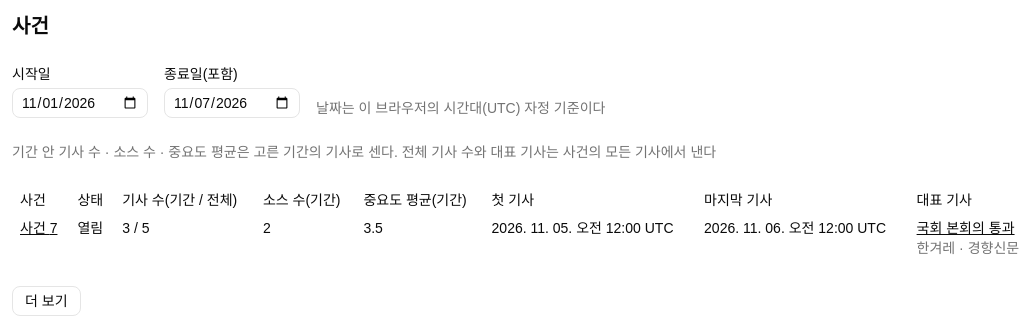
Test: EventsPage › 더 보기가 받은 커서로 다음 쪽을 이어 받는다
This screenshot has width=1036, height=333.
Check: the link "사건 7" is shown, box [20,220,58,236]
Click the button "더 보기" at {"x": 46, "y": 301}, box [12,286,80,316]
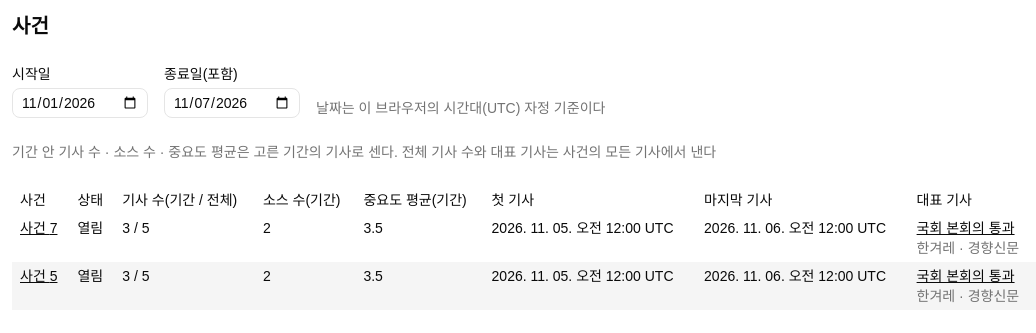
Check: the link "사건 5" is shown, box [20,268,58,284]
Check: the button "더 보기" is gone
